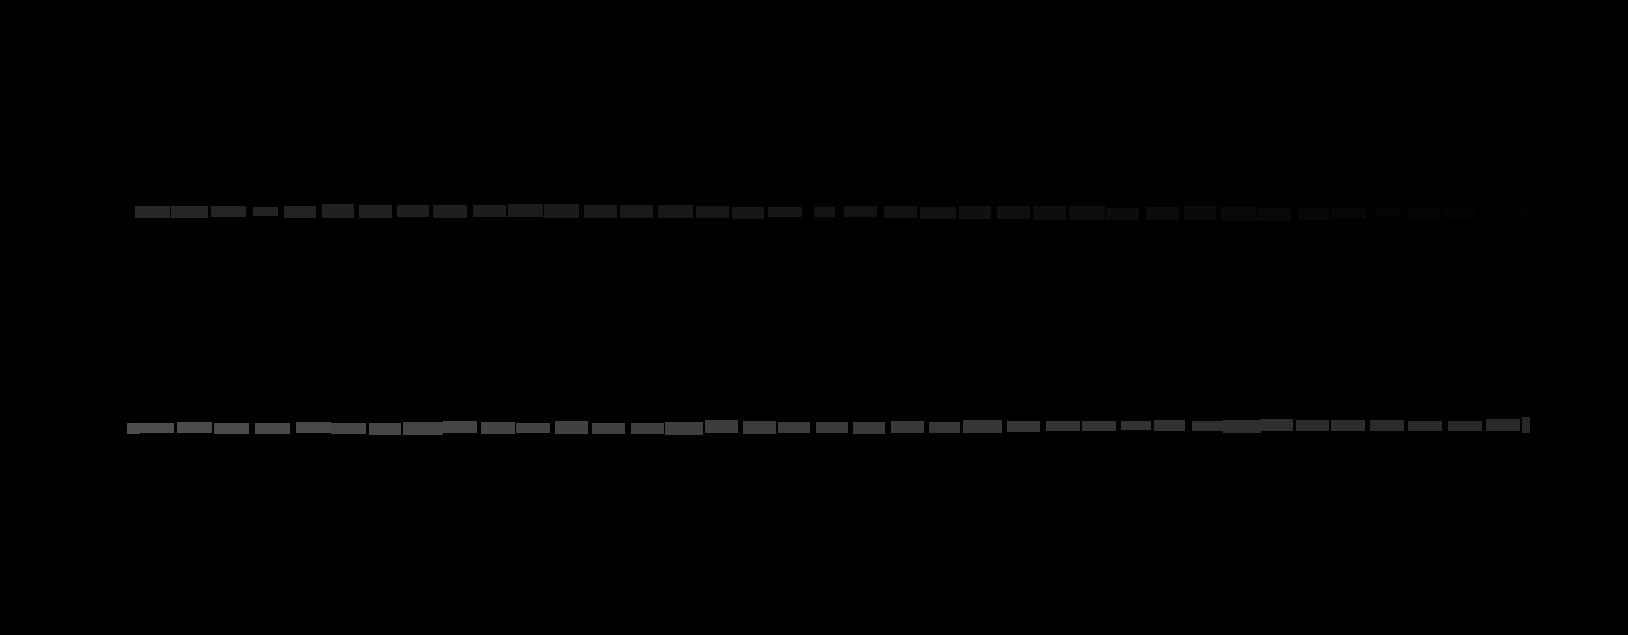light: (403, 422, 443, 435), (1221, 208, 1257, 221), (1223, 420, 1261, 433), (964, 420, 1002, 433), (664, 422, 703, 435), (1069, 206, 1105, 220), (544, 204, 579, 218), (1033, 206, 1066, 220), (508, 204, 543, 217), (1258, 208, 1291, 221), (1184, 206, 1216, 220), (322, 204, 354, 218), (658, 205, 693, 218), (433, 205, 467, 218), (920, 208, 956, 219), (171, 206, 208, 218), (1483, 206, 1516, 219), (1146, 208, 1179, 220), (1106, 208, 1139, 220), (997, 206, 1030, 219), (620, 205, 653, 218), (584, 205, 617, 218), (359, 205, 392, 218), (705, 420, 738, 433), (1331, 208, 1366, 219), (135, 206, 170, 218), (1408, 208, 1440, 220), (743, 421, 776, 434), (555, 421, 588, 434), (1486, 419, 1520, 431), (481, 422, 515, 434), (1298, 208, 1329, 220), (959, 206, 991, 219), (1443, 208, 1476, 219), (884, 206, 917, 218), (696, 206, 729, 218), (891, 421, 924, 433), (443, 421, 477, 433), (732, 208, 764, 219), (473, 205, 506, 217), (397, 205, 429, 217), (1260, 419, 1293, 431), (369, 423, 401, 435), (211, 206, 246, 217), (331, 423, 367, 434), (296, 422, 331, 433), (214, 423, 249, 434), (177, 422, 212, 433), (284, 206, 316, 218), (1331, 420, 1365, 431), (853, 422, 885, 434), (255, 423, 290, 434), (844, 206, 877, 217), (1371, 420, 1404, 431), (1296, 420, 1329, 431), (1007, 421, 1040, 432), (631, 423, 664, 434), (592, 423, 625, 434), (816, 422, 848, 433), (778, 422, 810, 433), (1154, 420, 1185, 431), (929, 422, 960, 433), (1408, 421, 1442, 431), (1082, 421, 1116, 431), (1046, 421, 1080, 431), (516, 423, 550, 433), (140, 423, 174, 433), (768, 208, 802, 217), (1448, 421, 1482, 431), (1192, 421, 1225, 431), (1121, 421, 1151, 430), (1375, 208, 1400, 217), (253, 208, 278, 216), (814, 208, 835, 217), (1520, 206, 1530, 220), (127, 423, 140, 434), (1522, 417, 1530, 433)
